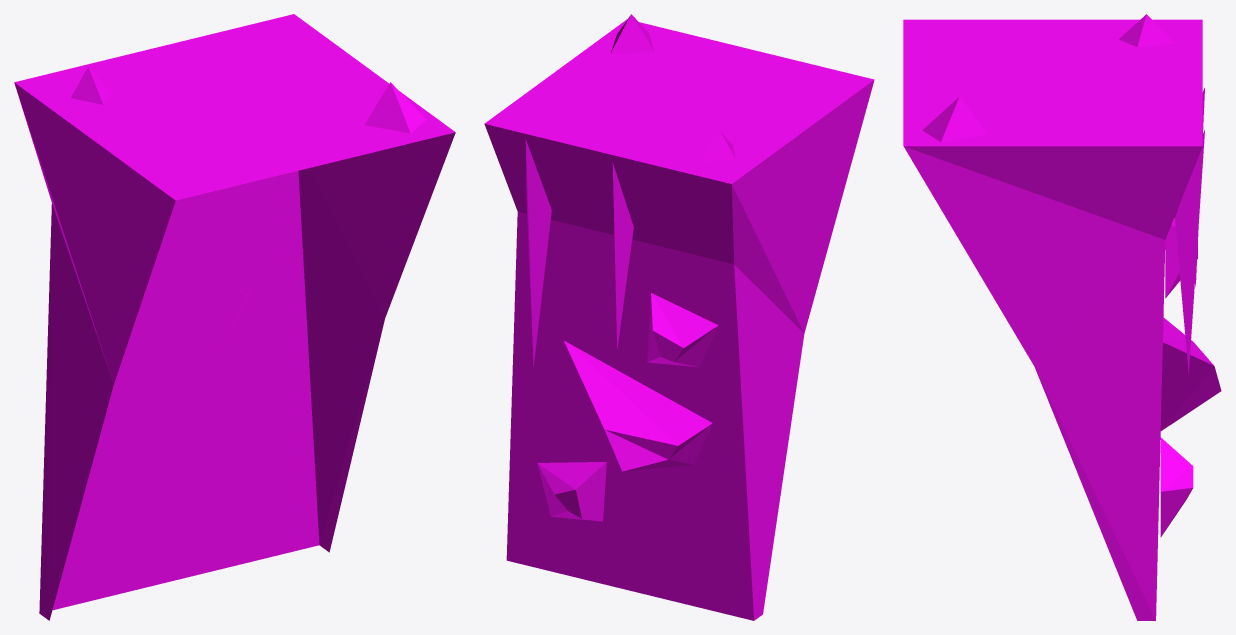
File: cave ledge.obj
3 views of the same model, side by side, from view 1: azimuth 30°, elevation 25°; view 2: azimuth 150°, elevation 25°; view 3: azimuth 270°, elevation 25° (orthographic). The views are drawn at different scales.
Parts seen in each view (by area): view 1: cave ledge_back; view 2: cave ledge_back; view 3: cave ledge_back.
Boxes of the visible parts, x1,y1,x2,y2 form: cave ledge_back: [14, 14, 455, 620]; cave ledge_back: [484, 14, 874, 620]; cave ledge_back: [903, 14, 1221, 620].
Bounding box in the file's own units: 1.28 × 2.4 × 1.36.
